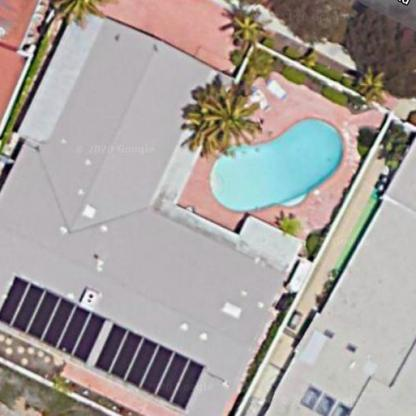solar_panel: (10, 269, 209, 408)
swimming_pool: (197, 101, 352, 220)
